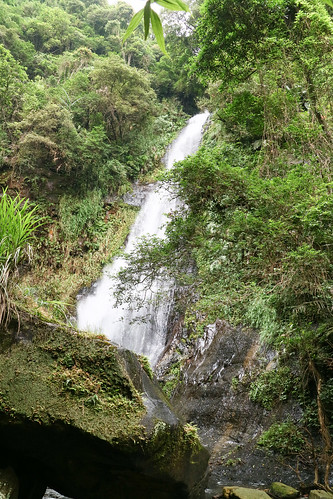wufengciWaterfall: (87, 87, 215, 366)
